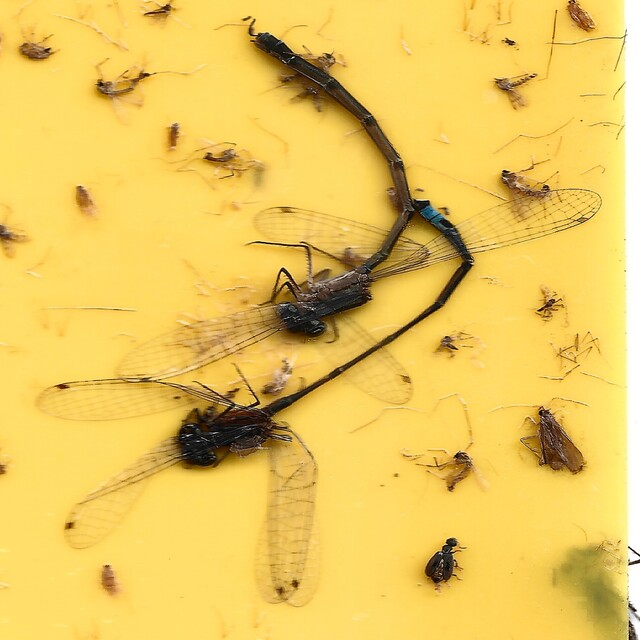Coleoptera: (422, 537, 465, 588)
Nematocera: (497, 165, 560, 222), (443, 448, 475, 494), (533, 283, 567, 321), (432, 334, 476, 357)
Odonata: (36, 198, 476, 611), (110, 29, 604, 385)
Trichoptera: (512, 396, 592, 476)
